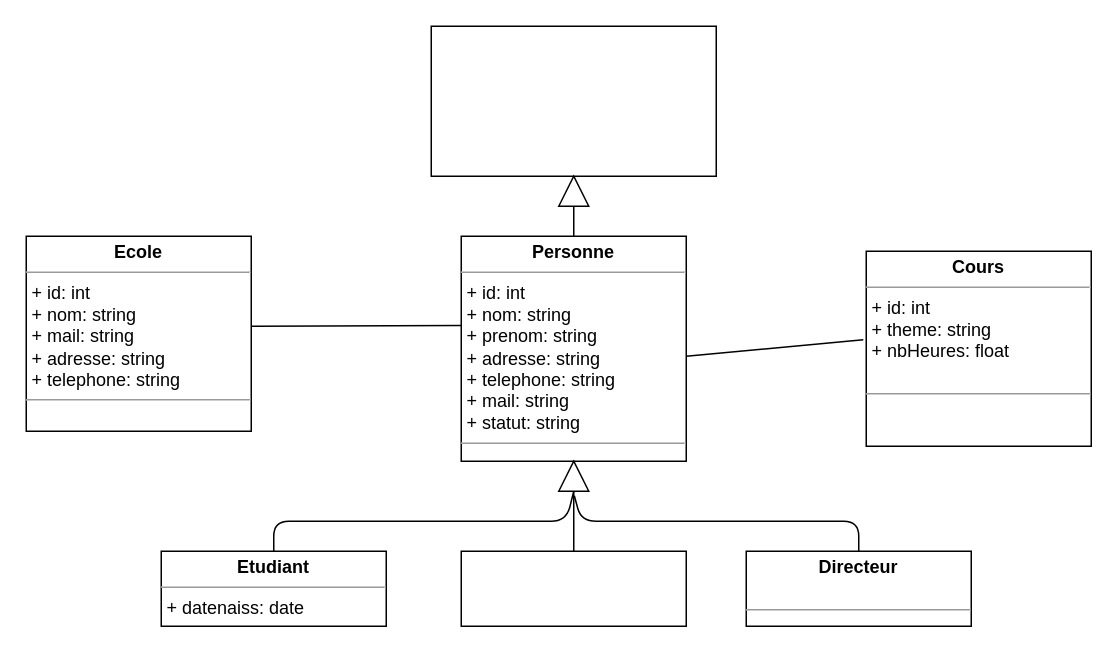
Image size: 1118x653. Some labels were removed from this diagram. The centre of each missing label's shape, as x and y in pixels:
"<<Interface>> Utilisateur + validationConnexion(): void" belongs at point (573, 100).
"Enseignant + matiere: string" belongs at point (573, 588).
